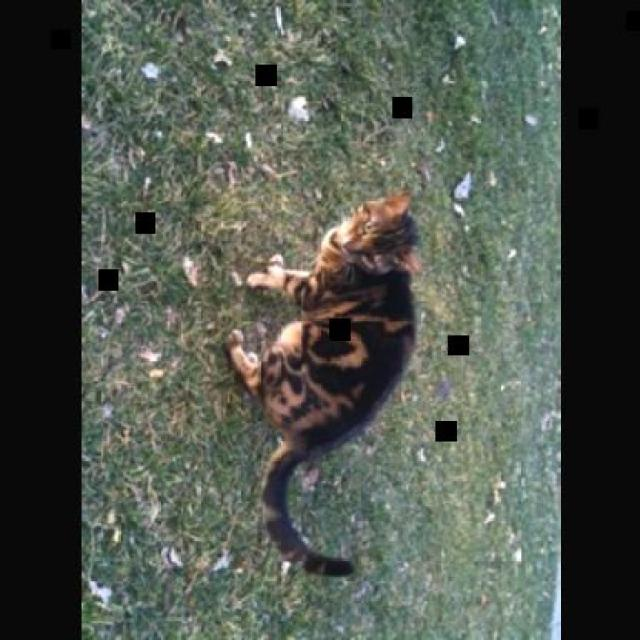unauthorized: (223, 191, 422, 577)
